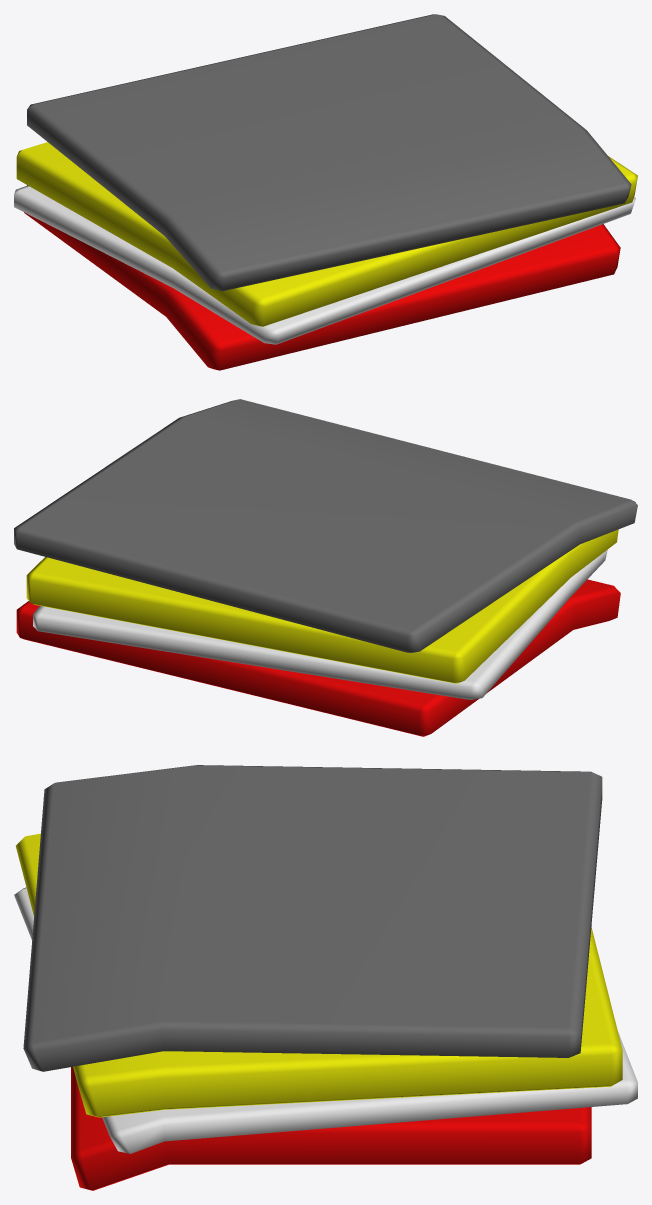
File: Laundry_Towels.fbx
3 views of the same model, one above another, from view 1: azimuth 30°, elevation 25°; view 2: azimuth 150°, elevation 25°; view 3: azimuth 270°, elevation 25° (orthographic). The views are drawn at different scales.
Visible parts, largest first — view 1: Laundry_Towels; view 2: Laundry_Towels; view 3: Laundry_Towels.
Boxes of the visible parts, x1,y1,x2,y2 form: Laundry_Towels: [14, 14, 637, 370]; Laundry_Towels: [14, 399, 637, 736]; Laundry_Towels: [14, 765, 637, 1190].
Size of the model in its own units: 56.96 by 14.63 by 49.3.
